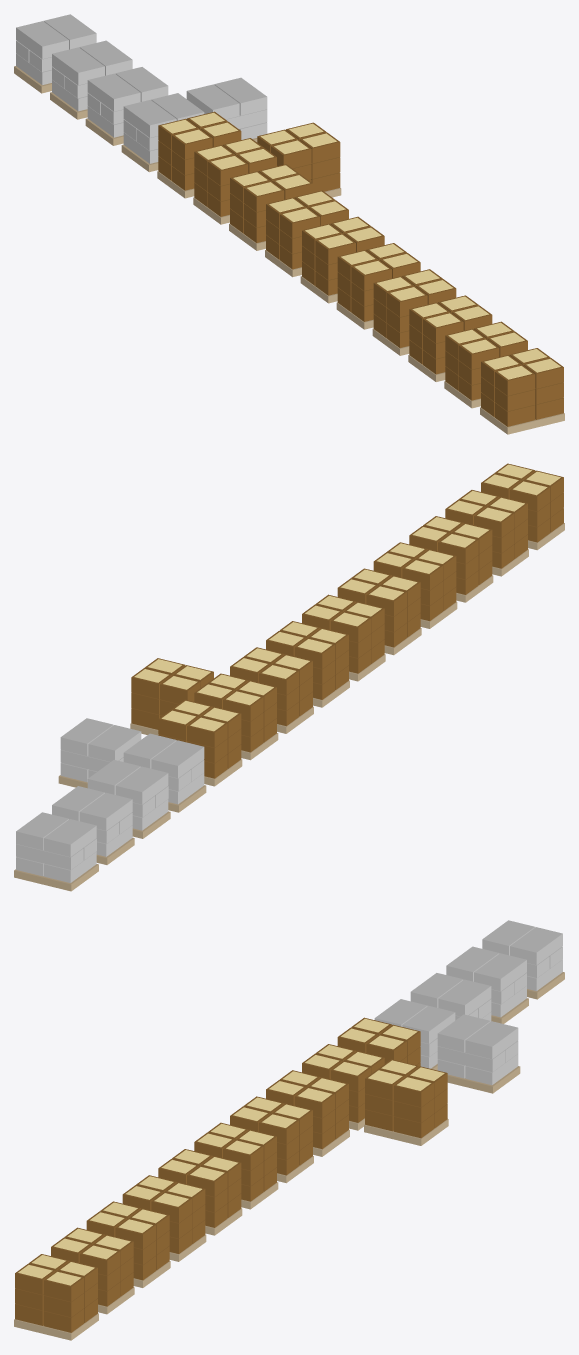
File: SM_CargaViveres_Mitad_LOD0.fbx
3 views of the same model, one above another, from view 1: azimuth 30°, elevation 25°; view 2: azimuth 150°, elevation 25°; view 3: azimuth 330°, elevation 25° (orthographic).
Parts seen in each view (by area): view 1: SM_carga_vagon_v16_LOD0; view 2: SM_carga_vagon_v16_LOD0; view 3: SM_carga_vagon_v16_LOD0.
Boxes of the visible parts, x1,y1,x2,y2 form: SM_carga_vagon_v16_LOD0: [14, 14, 564, 434]; SM_carga_vagon_v16_LOD0: [14, 463, 564, 891]; SM_carga_vagon_v16_LOD0: [14, 920, 564, 1340].
Size of the model in its own units: 2.52 by 1.07 by 17.9.
